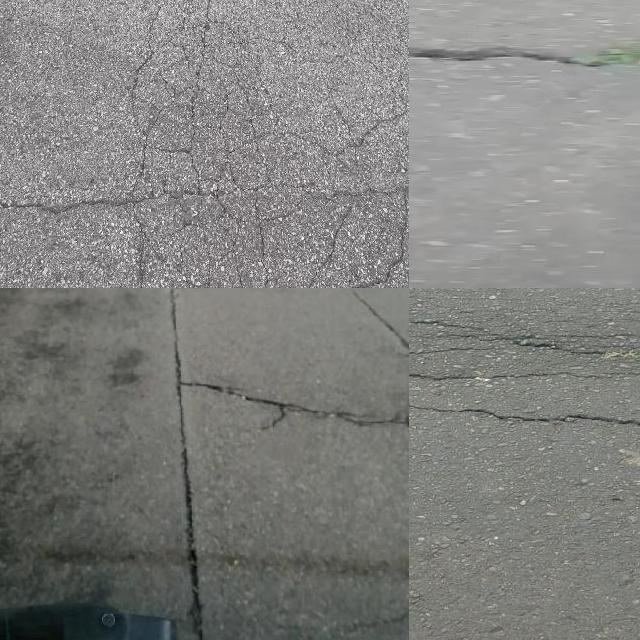Melintang: (0, 174, 409, 230), (153, 365, 409, 445), (409, 311, 640, 381), (409, 32, 640, 81), (423, 394, 640, 440)
Memanjang: (162, 288, 221, 640), (180, 0, 222, 182)
